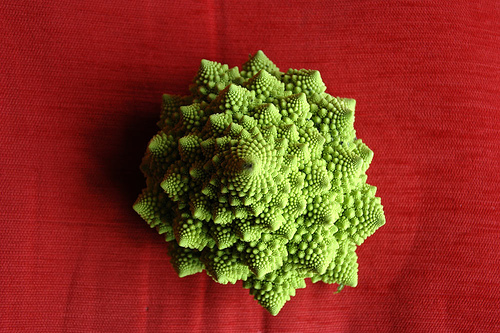cauliflower: (130, 48, 387, 317)
